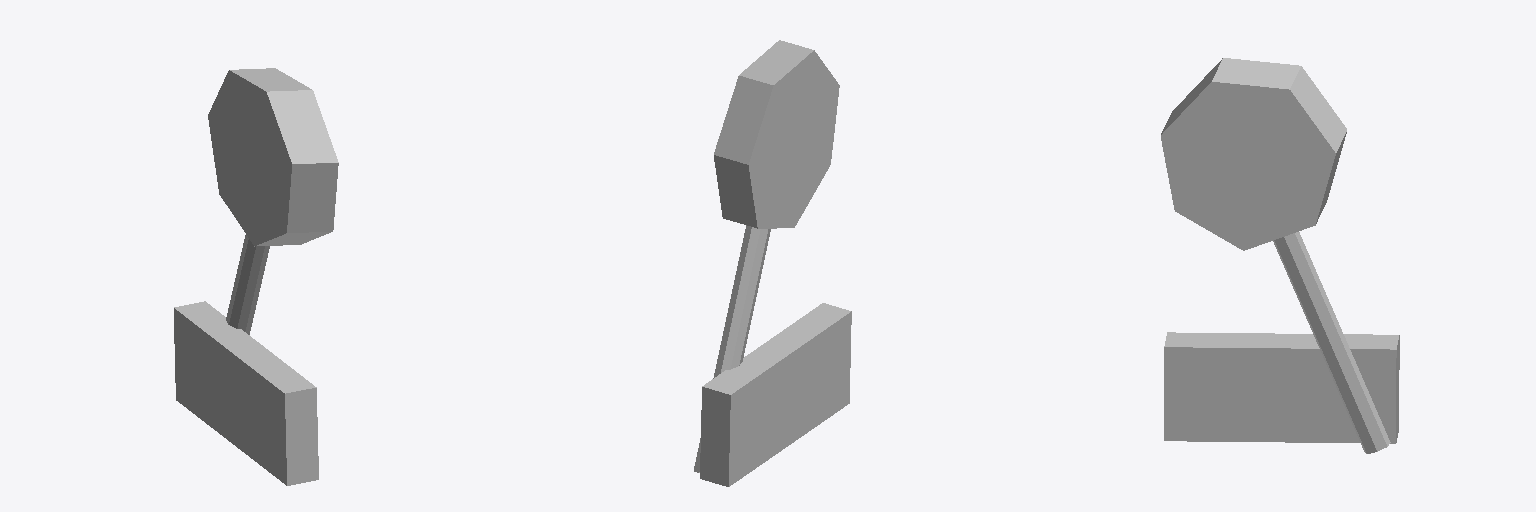
File: static_forward_6.obj
3 renders of one model, left to right at view 1: azimuth 30°, elevation 25°; view 2: azimuth 150°, elevation 25°; view 3: azimuth 270°, elevation 25°, orthographic.
Visible parts, largest first — view 1: Cube_Cube.011; view 2: Cube_Cube.011; view 3: Cube_Cube.011.
Boxes of the visible parts, box(x1,y1,x2,y2) form: Cube_Cube.011: box(174, 68, 338, 485); Cube_Cube.011: box(694, 40, 851, 486); Cube_Cube.011: box(1161, 58, 1399, 453).
Bounding box in the file's own units: 2.76 × 18.2 × 10.41.